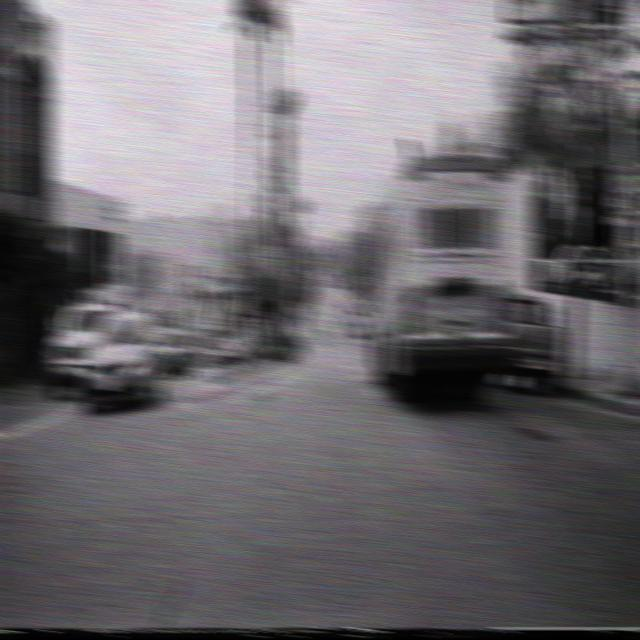speedLimit35: (610, 160, 640, 217)
